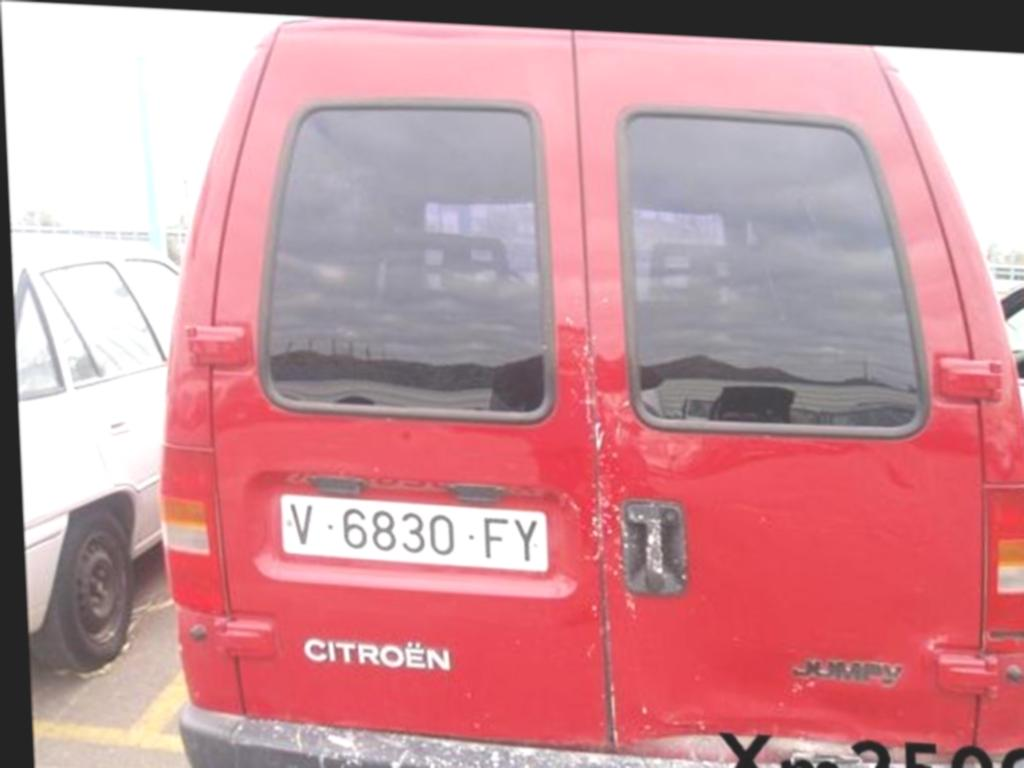License_Plate: (278, 493, 546, 567)
